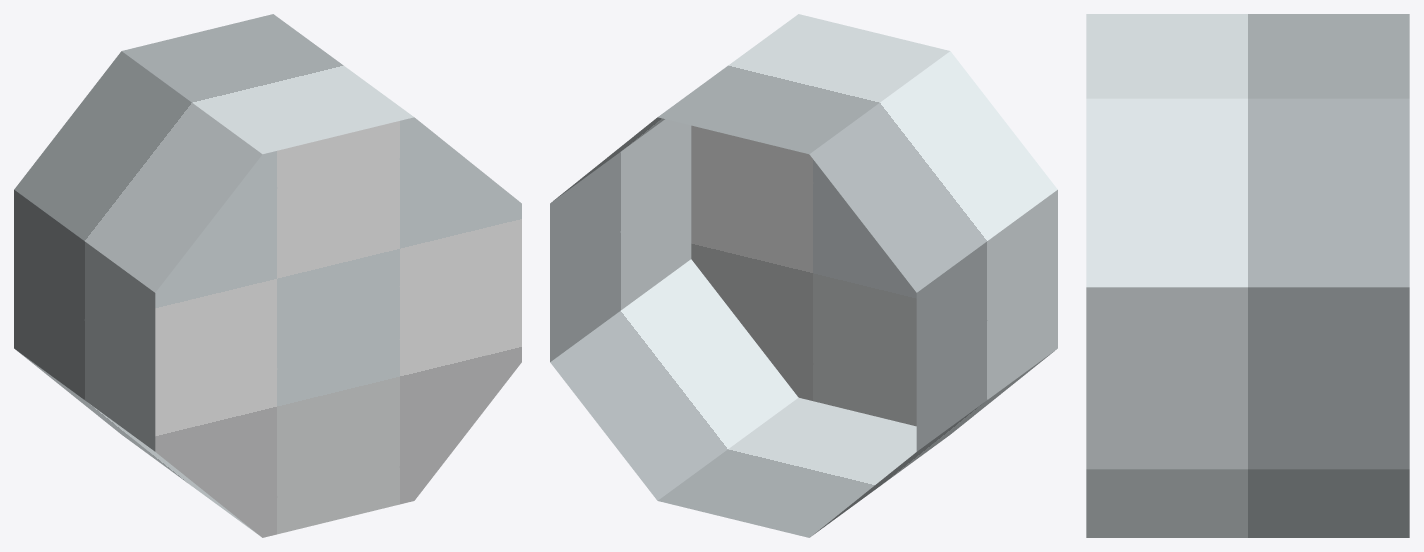
Rendered from Small_button.glb.
3 renders of one model, left to right at view 1: azimuth 30°, elevation 25°; view 2: azimuth 150°, elevation 25°; view 3: azimuth 270°, elevation 25°, orthographic. The views are drawn at different scales.
Visible parts, largest first — view 1: smallbutton; view 2: smallbutton; view 3: smallbutton.
Part boxes in pixels (x1=…): smallbutton: x1=14, y1=14, x2=521, y2=537; smallbutton: x1=550, y1=14, x2=1057, y2=537; smallbutton: x1=1086, y1=14, x2=1409, y2=537.
Size of the model in its own units: 0.1875 by 0.1875 by 0.125.
Materials: 1 (1 with a texture image).
